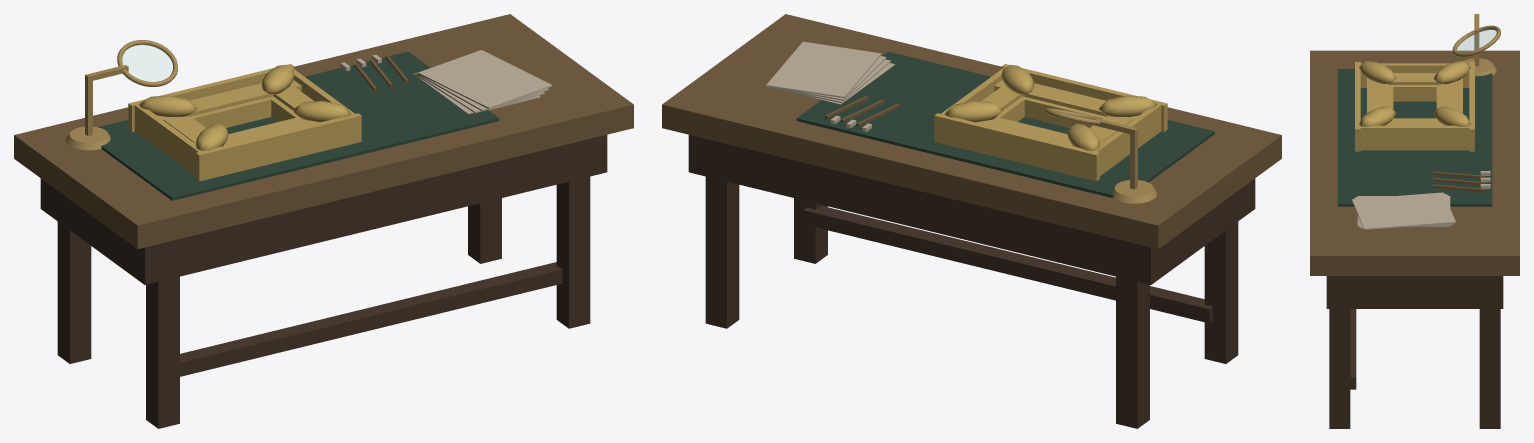
Rendered from restorationTable.glb.
3 views of the same model, side by side, from view 1: azimuth 30°, elevation 25°; view 2: azimuth 150°, elevation 25°; view 3: azimuth 270°, elevation 25° (orthographic). The views are drawn at different scales.
Parts seen in each view (by area): view 1: Conservator worktable with frame, tools and archival papers, Gilded portrait frame; view 2: Conservator worktable with frame, tools and archival papers, Gilded portrait frame; view 3: Conservator worktable with frame, tools and archival papers, Gilded portrait frame.
Boxes of the visible parts, x1,y1,x2,y2 form: Conservator worktable with frame, tools and archival papers: (14, 14, 633, 428); Gilded portrait frame: (128, 64, 361, 181); Conservator worktable with frame, tools and archival papers: (662, 14, 1281, 428); Gilded portrait frame: (934, 64, 1167, 181); Conservator worktable with frame, tools and archival papers: (1310, 14, 1519, 428); Gilded portrait frame: (1355, 61, 1474, 151).
Size of the model in its own units: 2.2 by 1.25 by 0.95.
